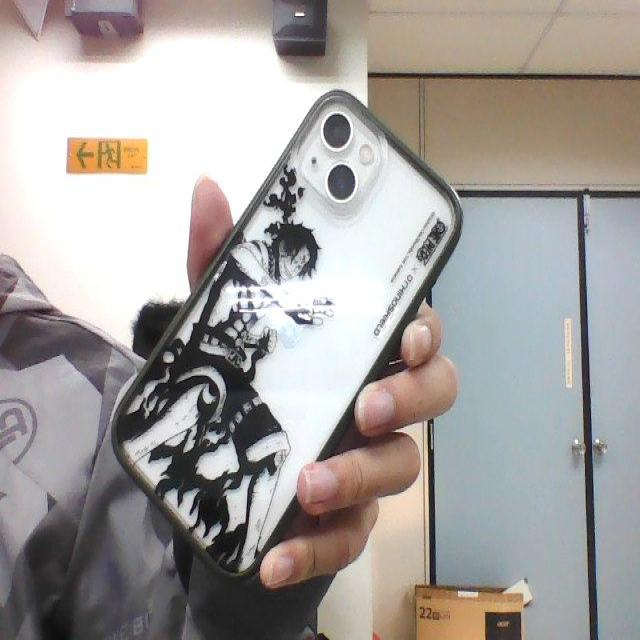phone: (102, 68, 481, 605)
